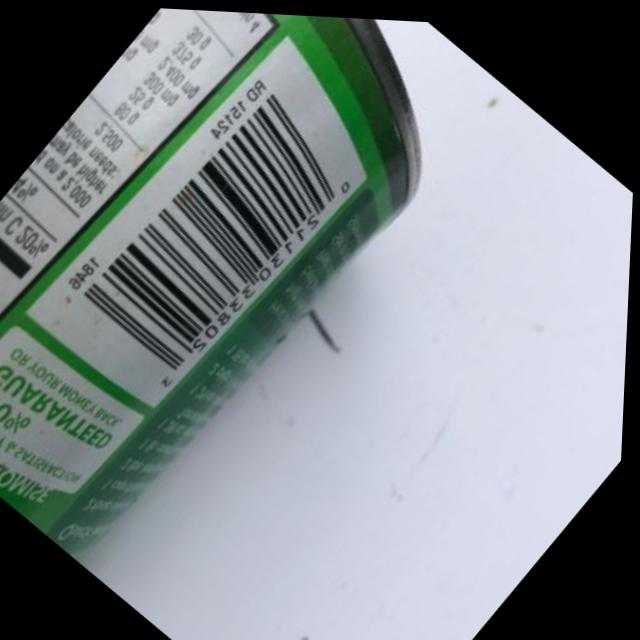metal: (0, 10, 419, 553)
